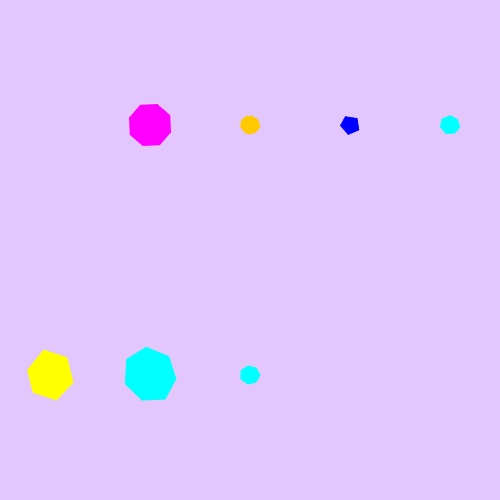heptagon: (119, 346, 181, 405), (436, 111, 465, 139), (236, 361, 265, 389)
hexagon: (21, 351, 80, 400)
nonagon: (236, 111, 265, 139)
octagon: (124, 99, 176, 151)
pentagon: (336, 111, 364, 139)
